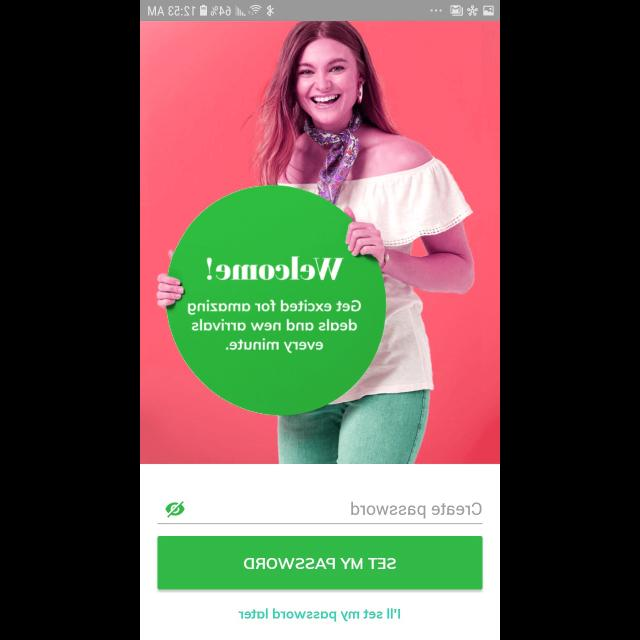icon: (166, 500, 184, 518)
image: (140, 22, 500, 464)
input: (158, 500, 482, 524)
text: (187, 299, 361, 353), (208, 256, 344, 280), (238, 608, 400, 622), (351, 502, 481, 518)
textbutton: (158, 536, 482, 590)
uppertaskbar: (140, 1, 500, 22)
